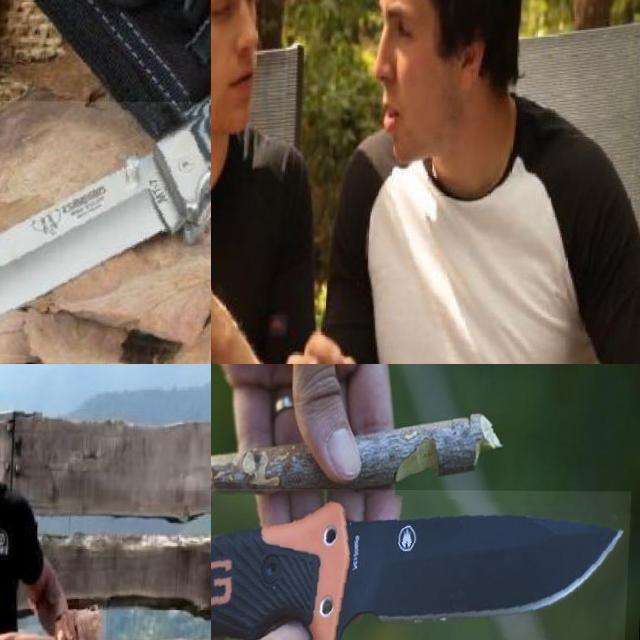-: (211, 488, 633, 640), (0, 99, 211, 364), (76, 596, 110, 640)
